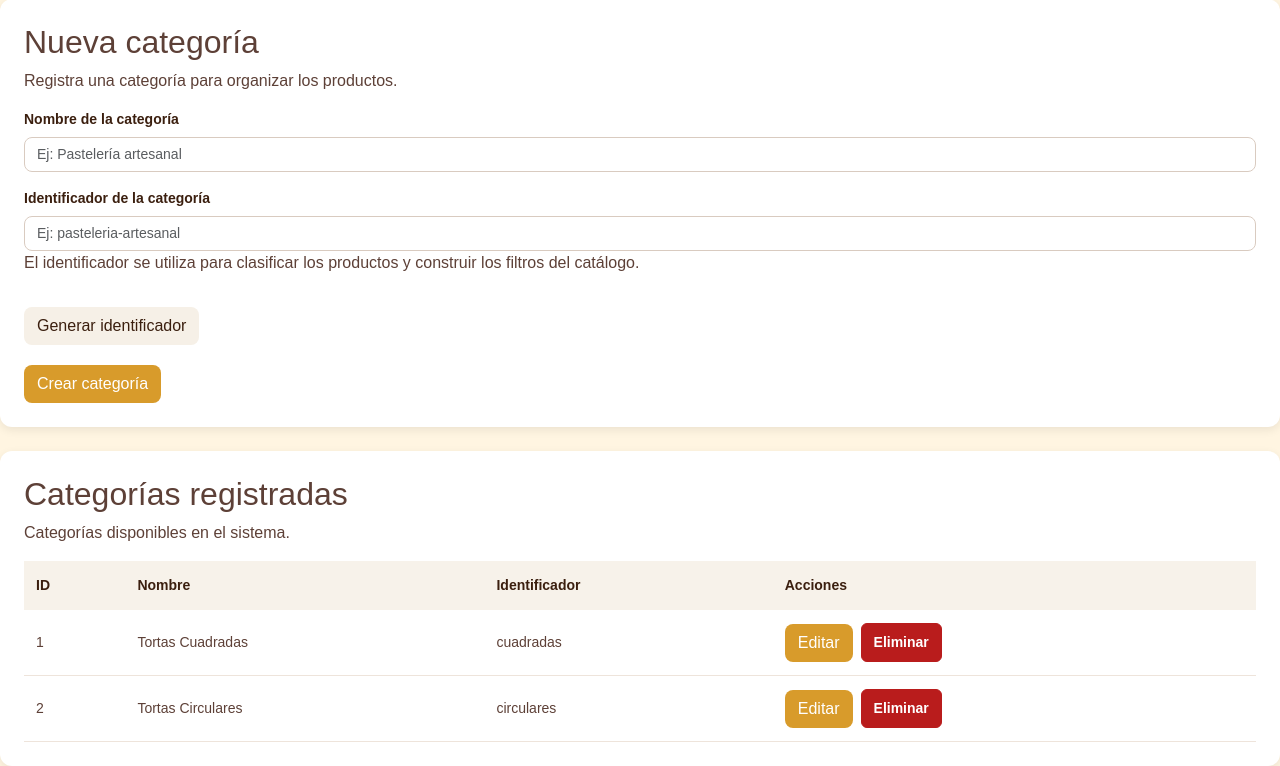
Scenario: C3-09 - Administración de categorías › permite cancelar la edición
(page scrolled)
Expected: the text "Tortas Cuadradas" is shown, [125, 610, 484, 676]
Step 1. Click the button with aria-label "Editar Tortas Cuadradas" → click(819, 643), box [785, 624, 853, 662]
(page scrolled)
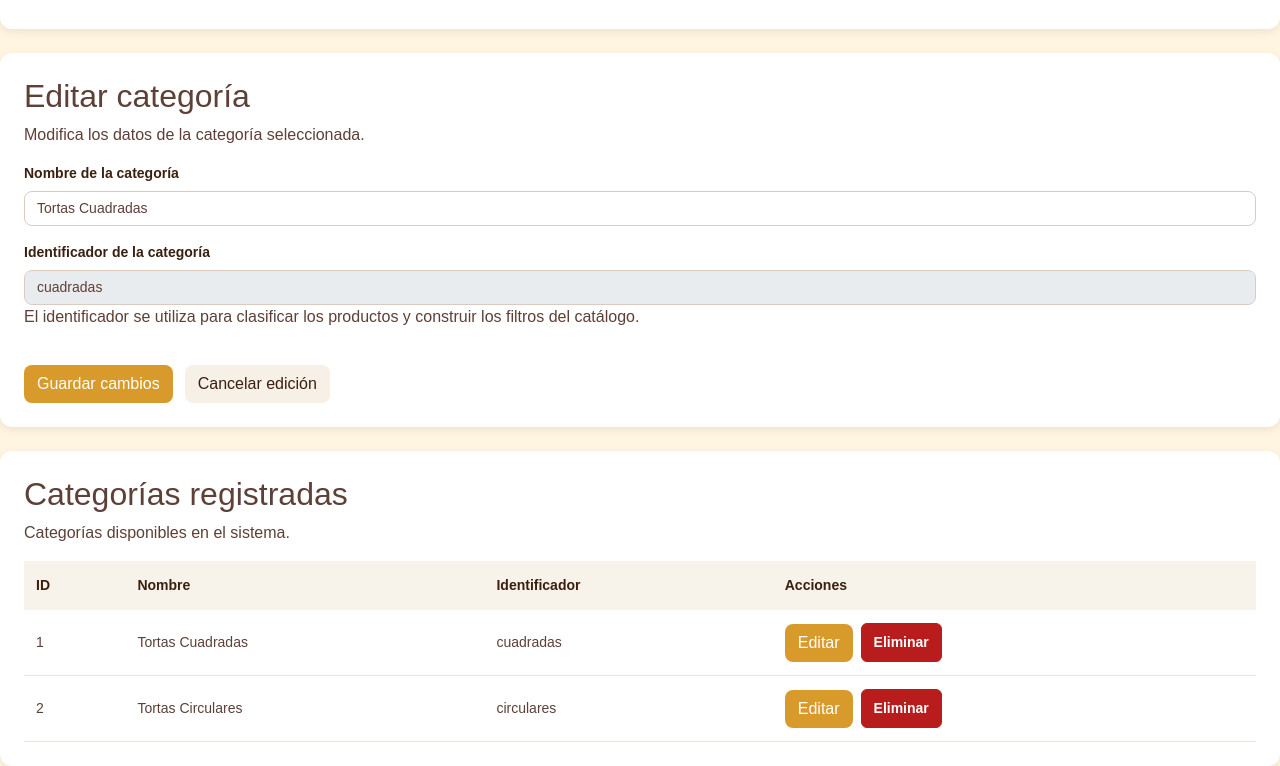
Step 2. Click the button "Cancelar edición" → click(257, 384), box [185, 365, 330, 403]
(page scrolled)
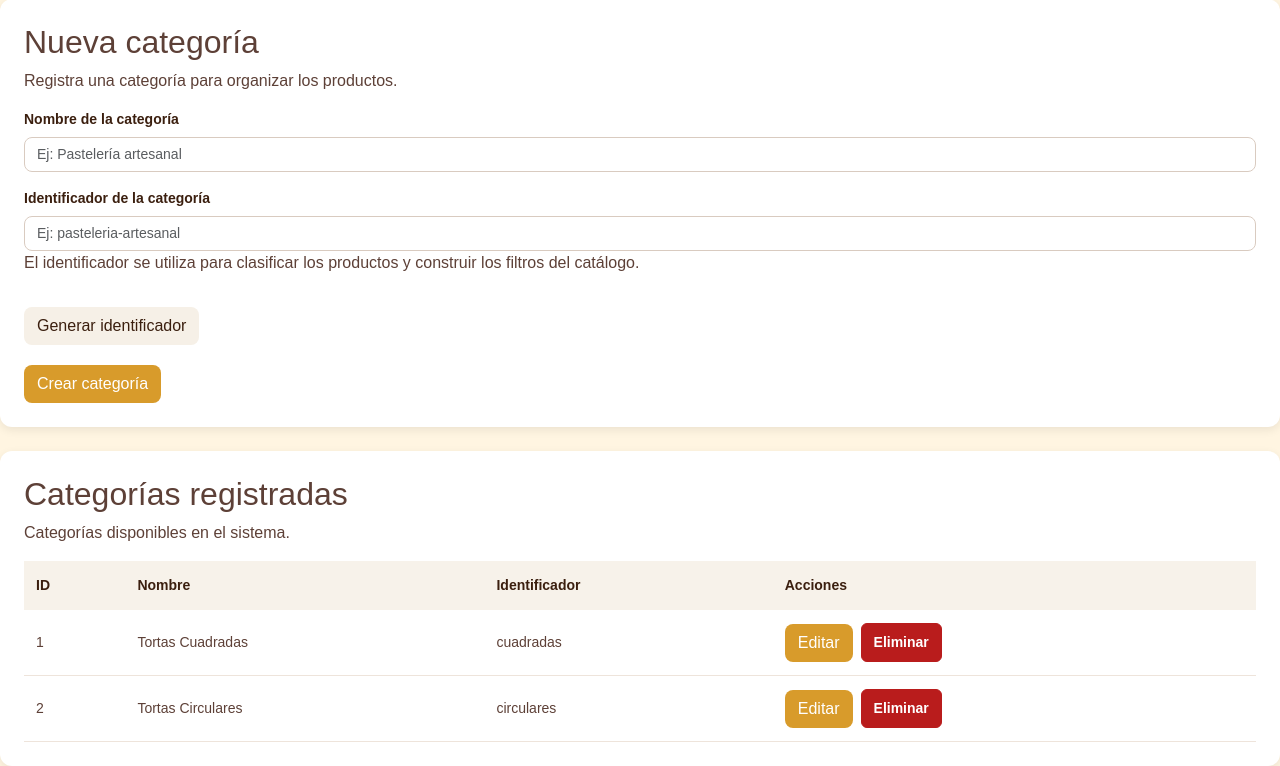
Now the button "Crear categoría" is shown, box [24, 365, 161, 403]
Now the field labelled "Nombre de la categoría" is empty, box [24, 137, 1256, 172]
